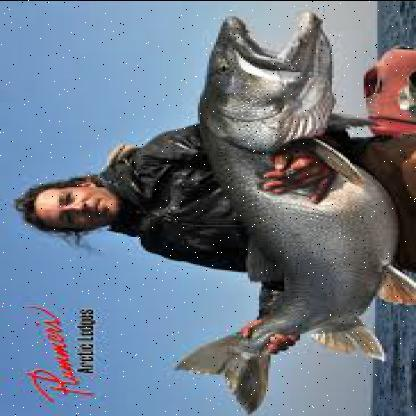fish: (166, 2, 398, 416)
